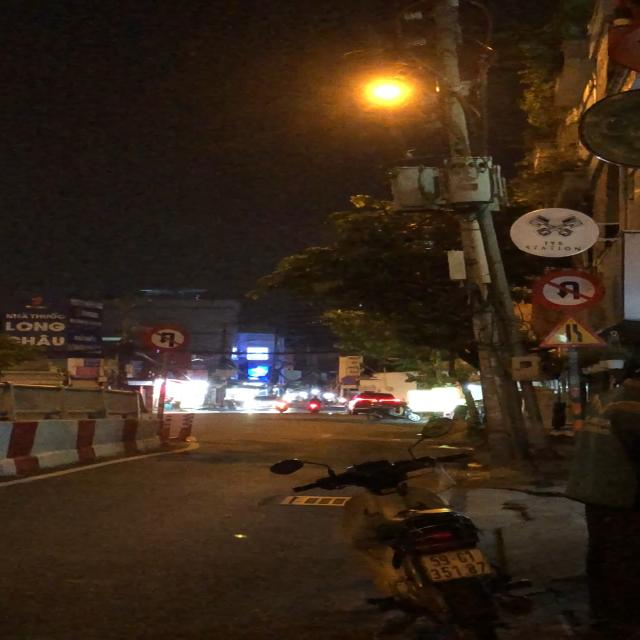Bien bao cam quay dau xe: (528, 267, 608, 311), (144, 322, 193, 352)
Bien bao duong bi thu hep: (534, 312, 611, 348)
